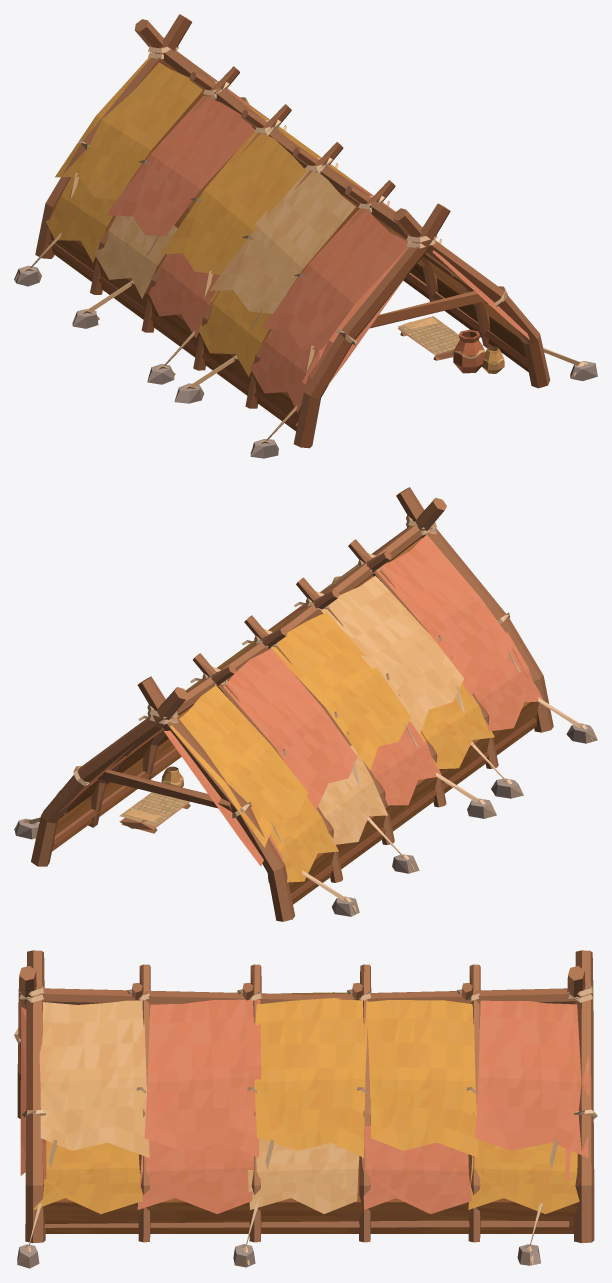
The model's file is Prehistoric_Communal_Longhouse.glb.
The picture shows the model from 3 angles, top to bottom: view 1: azimuth 30°, elevation 25°; view 2: azimuth 150°, elevation 25°; view 3: azimuth 270°, elevation 25°; orthographic projection. The views are drawn at different scales.
Visible parts, largest first — view 1: Prehistoric Communal Longhouse; view 2: Prehistoric Communal Longhouse; view 3: Prehistoric Communal Longhouse.
Part boxes in pixels (bbox=[...]): Prehistoric Communal Longhouse: bbox=[14, 14, 597, 458]; Prehistoric Communal Longhouse: bbox=[14, 487, 597, 921]; Prehistoric Communal Longhouse: bbox=[14, 950, 597, 1268].
Size of the model in its own units: 7.35 by 4.2 by 10.02.
Materials: 2 (2 with a texture image).
